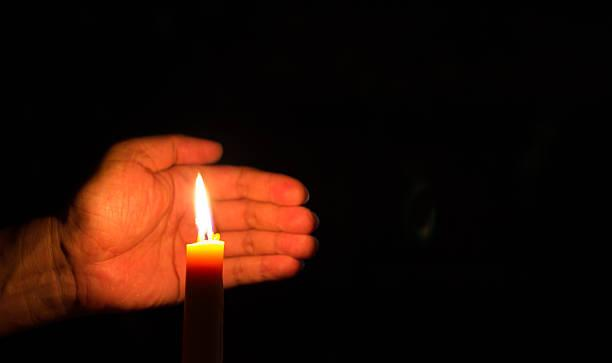Fire: (192, 169, 214, 234)
